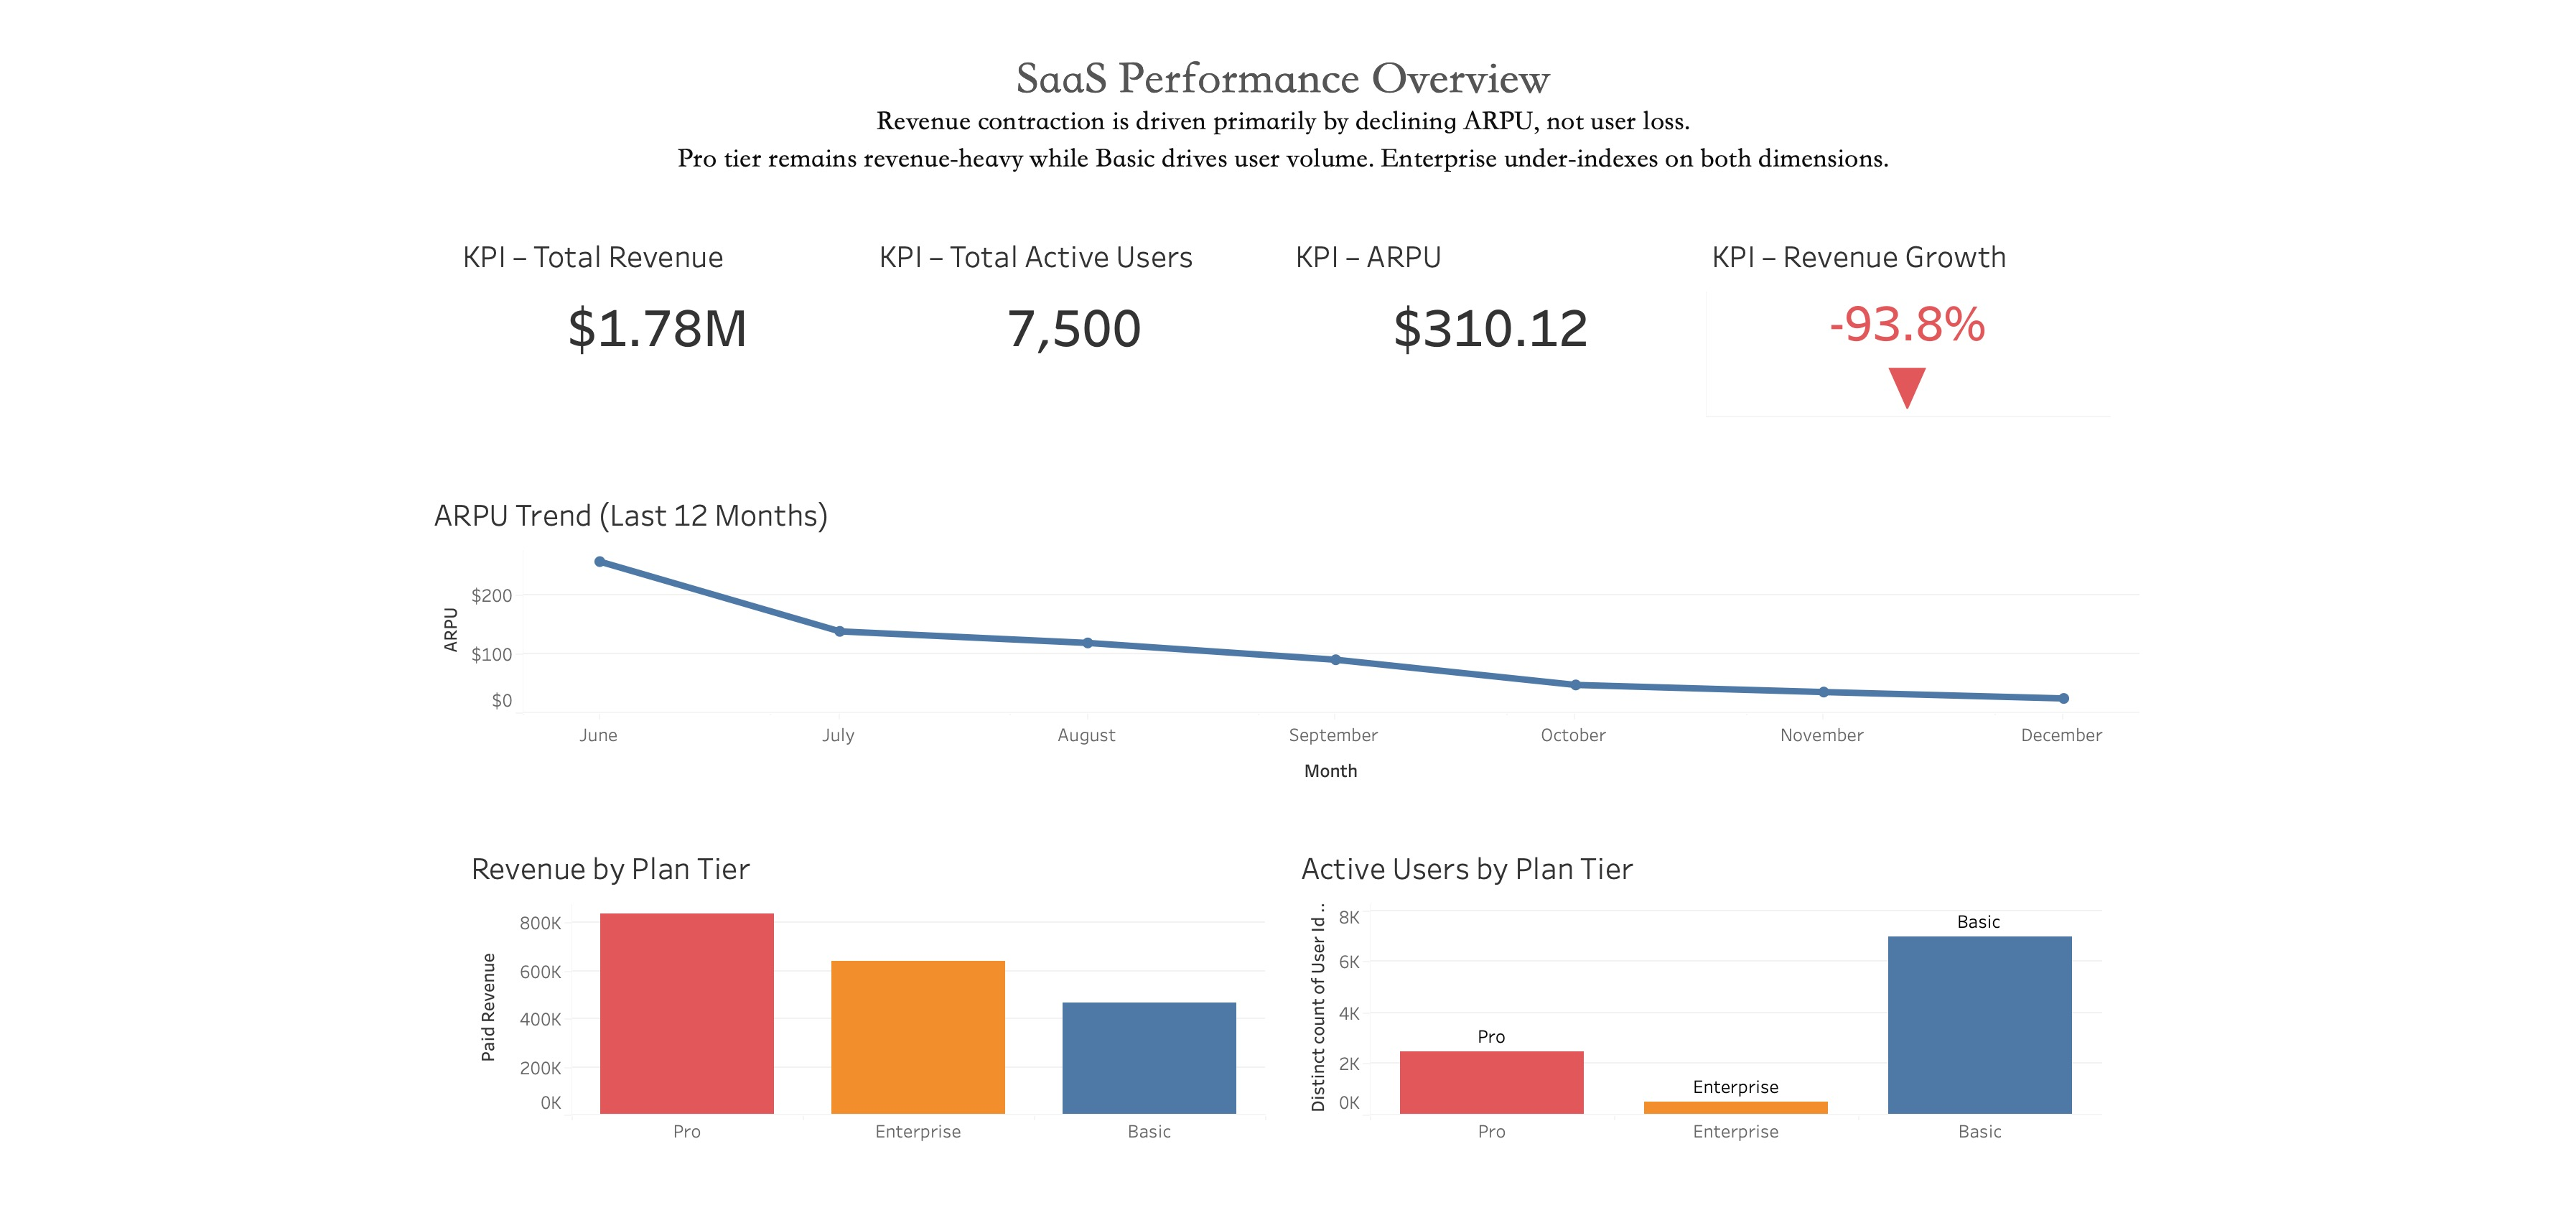

The page's visual inventory and layout, read from the dashboard file:
{"tool":"tableau","page":{"name":"SaaS_Dashboard","canvas":[1200,800],"ordinal":0},"visuals":[{"type":"title","box":[0,0,1200,109]},{"type":"worksheet","title":"KPI – Total Revenue","mark":"Automatic","box":[20,129,290,160]},{"type":"worksheet","title":"KPI – Total Active Users","mark":"Automatic","box":[310,129,290,160]},{"type":"worksheet","title":"KPI – ARPU","mark":"Automatic","box":[600,129,290,160]},{"type":"worksheet","title":"KPI – Revenue Growth","mark":"Text","cols":["Calculation_0178844951396354"],"box":[890,129,290,160]},{"type":"worksheet","title":"ARPU Trend (Last 12 Months)","mark":"Line","rows":["Calculation_0178847641321480"],"cols":["Calculation_0178844951396354"],"box":[0,309,1200,220]},{"type":"worksheet","title":"Revenue by Plan Tier ","mark":"Bar","rows":["Calculation_0178844950712321"],"cols":["plan_tier"],"box":[20,549,578,231]},{"type":"worksheet","title":"Active Users by Plan Tier","mark":"Bar","rows":["user_id (subscriptions)"],"cols":["plan_tier"],"box":[598,549,582,231]}]}

Visuals, with their boxes on the page's 1200x800 design canvas (x1, y1, x2, y2). These are canvas units, not pixel positions in the 2576x1228 screenshot, which may show the page scaled, cropped or inside an application window:
title: bbox=(0, 0, 1200, 109)
"KPI – Total Revenue" worksheet: bbox=(20, 129, 310, 289)
"KPI – Total Active Users" worksheet: bbox=(310, 129, 600, 289)
"KPI – ARPU" worksheet: bbox=(600, 129, 890, 289)
"KPI – Revenue Growth" worksheet (Text marks): bbox=(890, 129, 1180, 289)
"ARPU Trend (Last 12 Months)" worksheet (Line marks): bbox=(0, 309, 1200, 529)
"Revenue by Plan Tier " worksheet (Bar marks): bbox=(20, 549, 598, 780)
"Active Users by Plan Tier" worksheet (Bar marks): bbox=(598, 549, 1180, 780)
